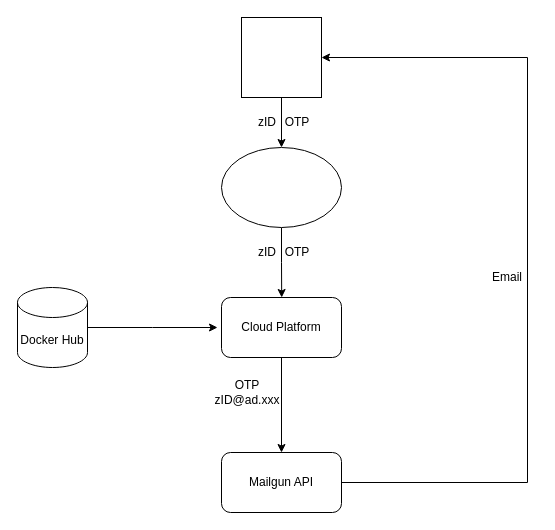
This 555x530 diagram has some shape labels left out. The shapes that lost their labels are listed below. From the top down, each one's centre as x and y in pixels, then its label:
At point 281,57: "User".
At point 281,187: "Discord Server".
